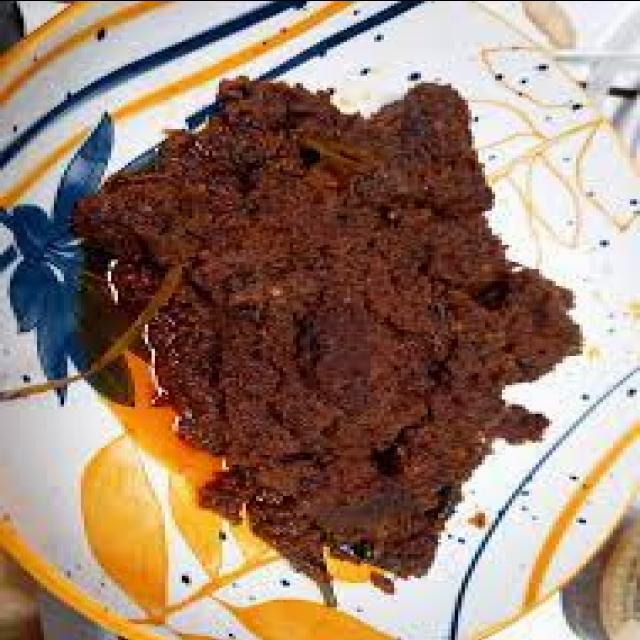rendang: (74, 77, 579, 594)
